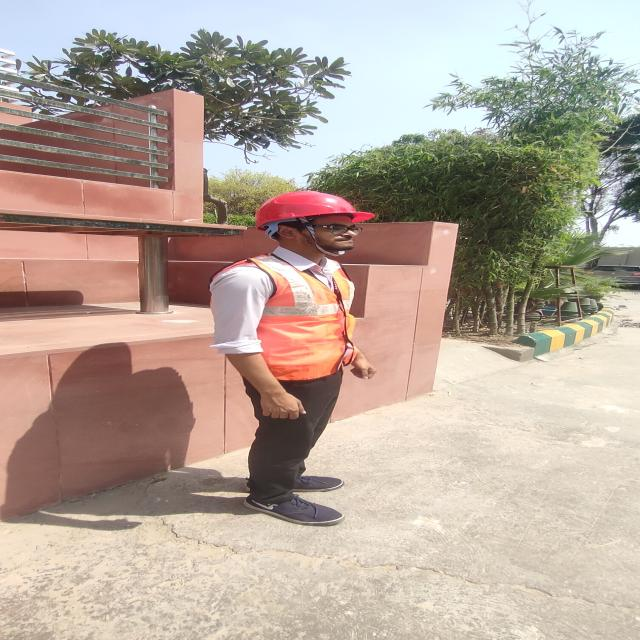safe: (210, 191, 375, 526)
